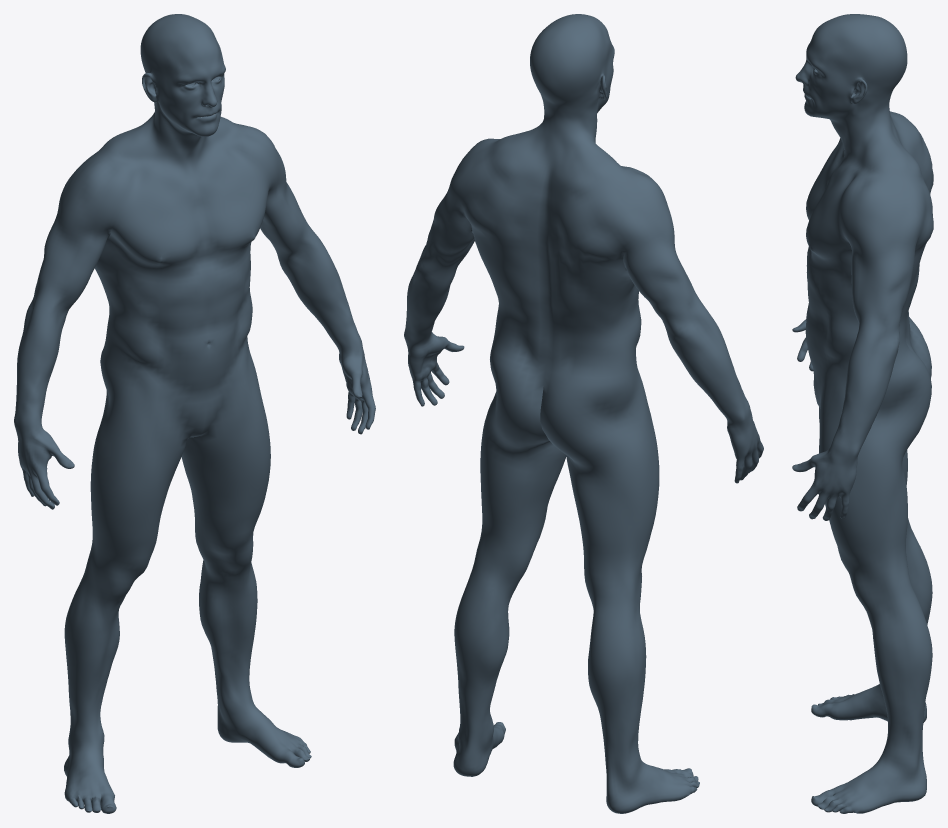
The model's file is body.glb.
The picture shows the model from 3 angles, left to right: view 1: azimuth 30°, elevation 25°; view 2: azimuth 150°, elevation 25°; view 3: azimuth 270°, elevation 25°; orthographic projection.
Parts seen in each view (by area): view 1: material_Body; view 2: material_Body; view 3: material_Body.
Part boxes in pixels (x1,y1,x2,y2): material_Body: (14, 14, 375, 813); material_Body: (404, 14, 763, 813); material_Body: (792, 14, 933, 813).
Size of the model in its own units: 0.00798 by 0.0169 by 0.0029.
